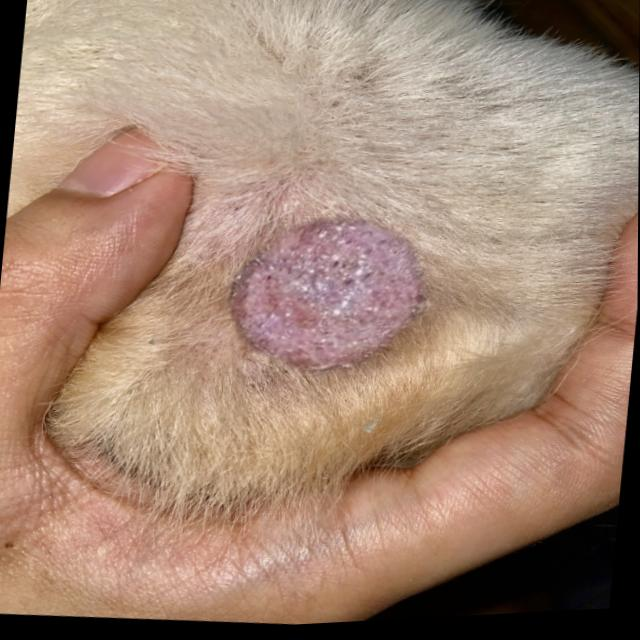ringworm: (201, 188, 454, 410)
